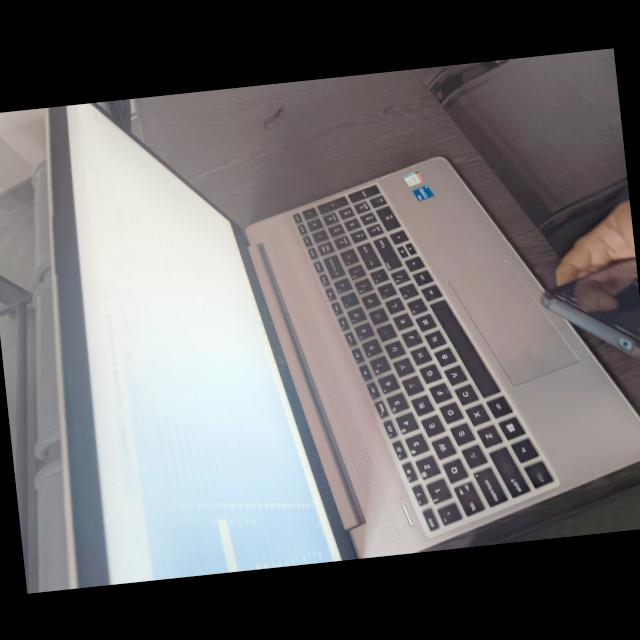laptop: (15, 52, 620, 580)
